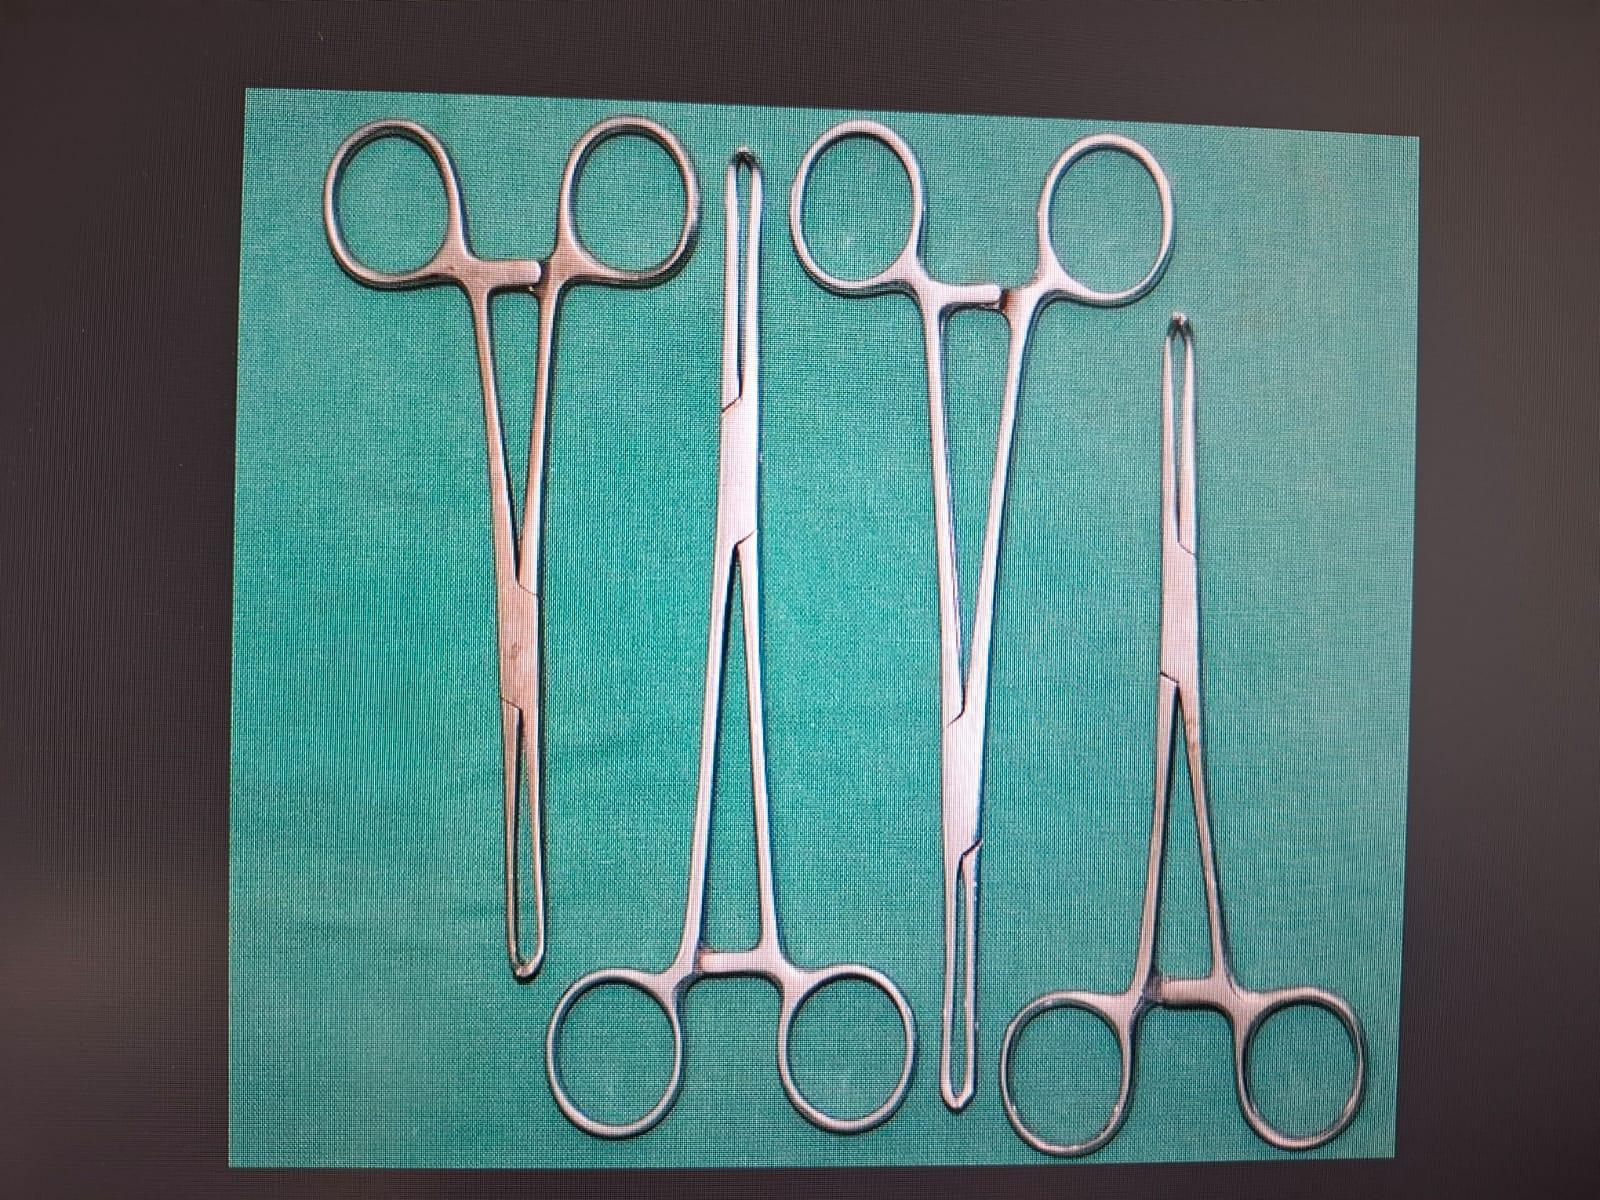Allis Forceps: (517, 137, 939, 1156), (774, 105, 1167, 1124), (978, 287, 1403, 1170), (307, 102, 716, 986)
